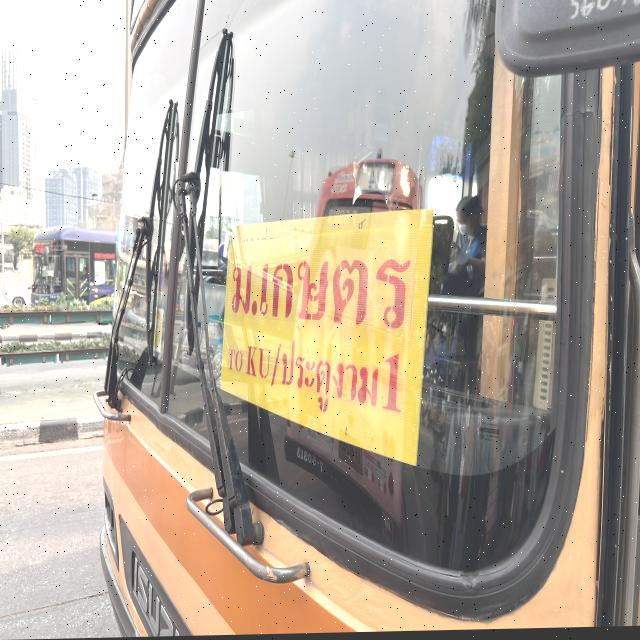BMTA-bus: (91, 0, 640, 638)
Destination Sign: (220, 212, 438, 470)
TSB-Bus: (27, 226, 122, 321)
